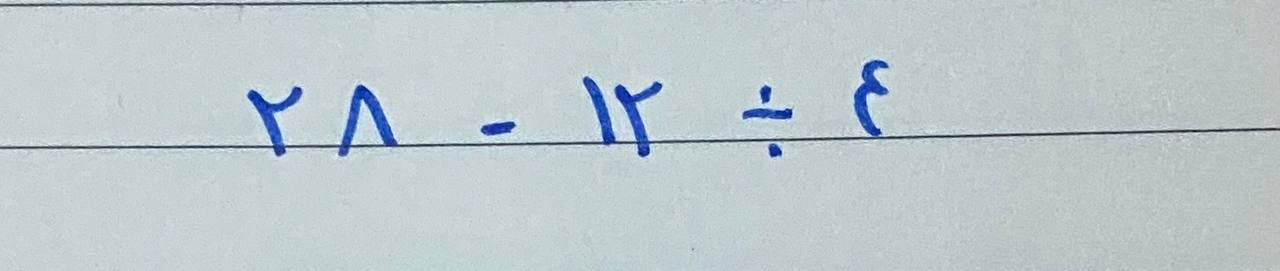character: (341, 86, 399, 155), (246, 86, 301, 155), (744, 83, 793, 157), (617, 79, 662, 156), (852, 59, 890, 135), (584, 78, 618, 146), (480, 122, 518, 138)
